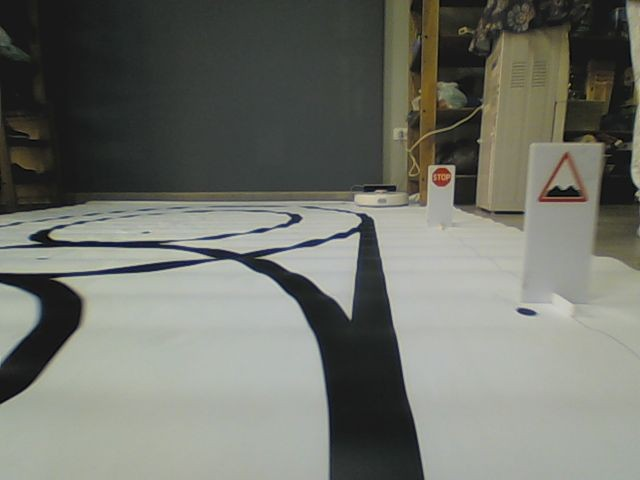Stop: (431, 166, 453, 187)
